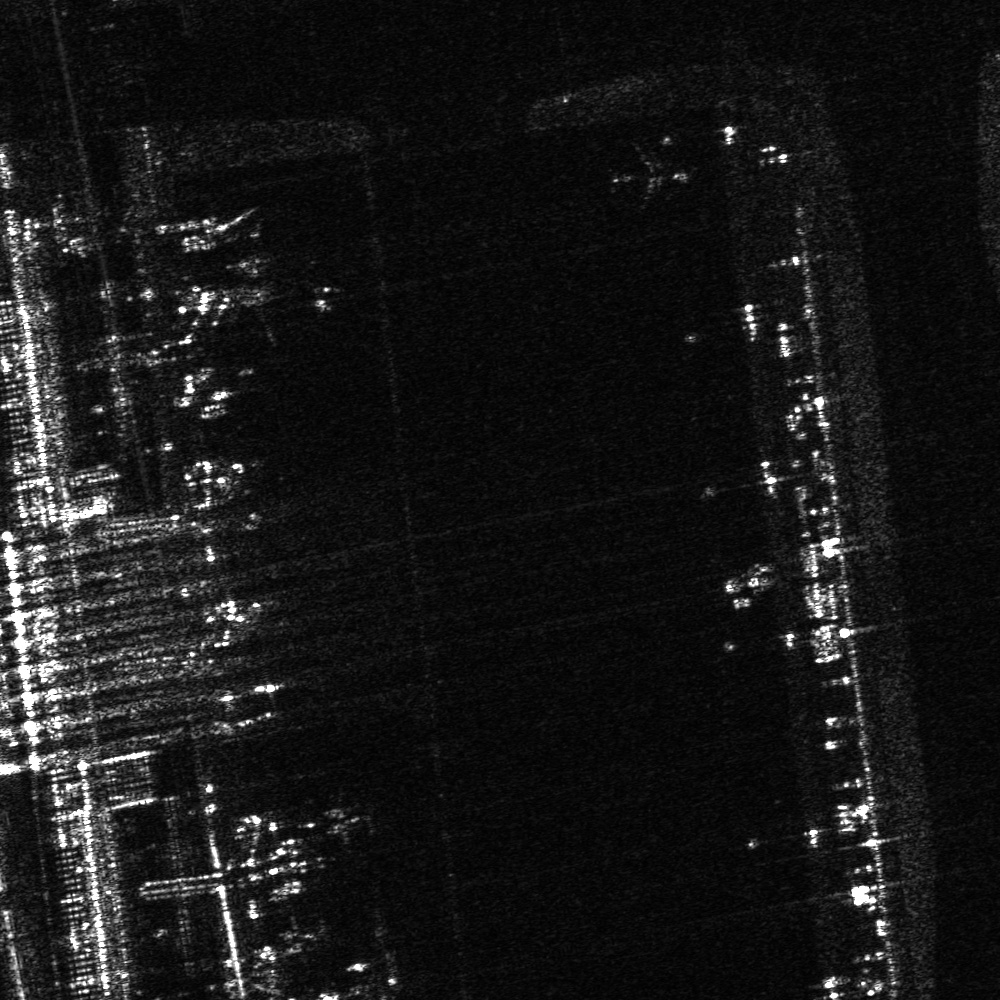Boeing737: (600, 140, 695, 213)
